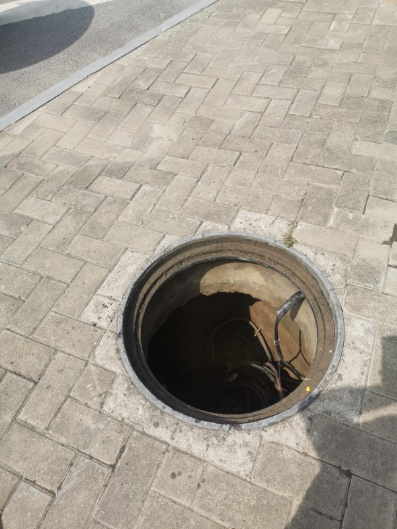lose: (117, 231, 346, 429)
